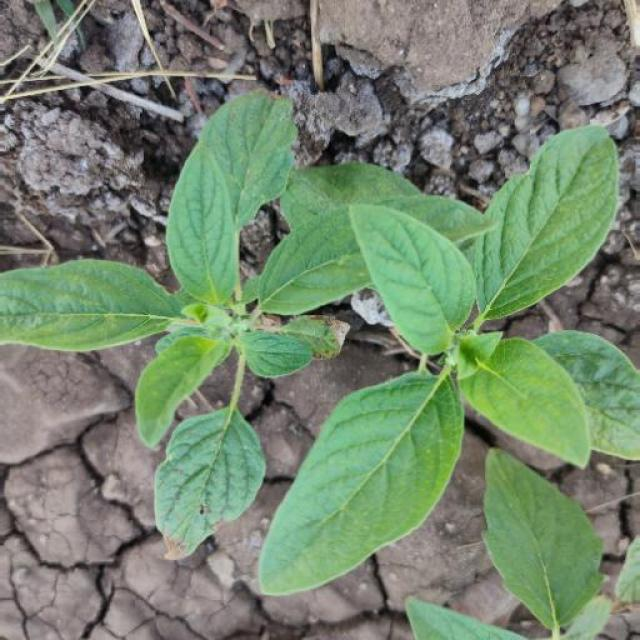crop: (9, 108, 396, 552), (306, 197, 640, 605)
